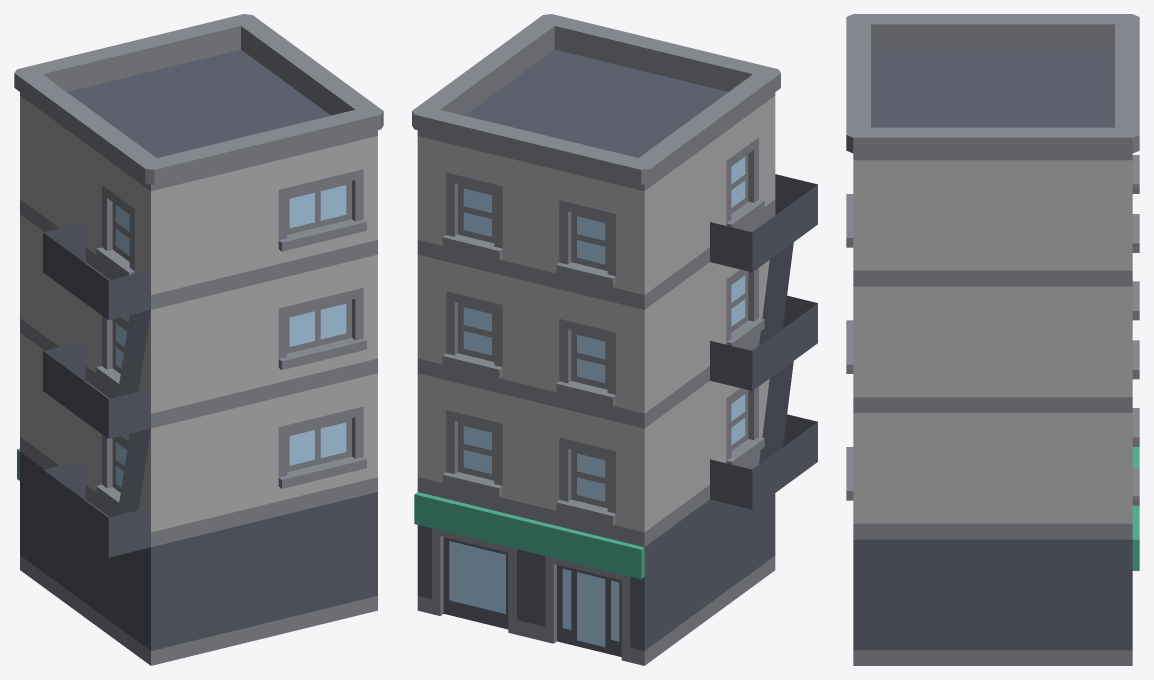
The model's file is large-building-c.glb.
3 renders of one model, left to right at view 1: azimuth 30°, elevation 25°; view 2: azimuth 150°, elevation 25°; view 3: azimuth 270°, elevation 25°, orthographic. The views are drawn at different scales.
Visible parts, largest first — view 1: large_buildingC; view 2: large_buildingC; view 3: large_buildingC.
Boxes of the visible parts, box(x1,y1,x2,y2) form: large_buildingC: box(14, 14, 383, 665); large_buildingC: box(412, 14, 817, 665); large_buildingC: box(846, 14, 1139, 665).
Bounding box in the file's own units: 0.97 × 1.68 × 0.84.
